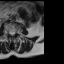CCS_stenosis: (11, 30, 12, 37)
LFS_normal: (15, 29, 17, 35)
LLS_normal: (12, 30, 14, 36)
RFS_normal: (6, 29, 9, 35)
RLS_normal: (9, 30, 11, 36)
